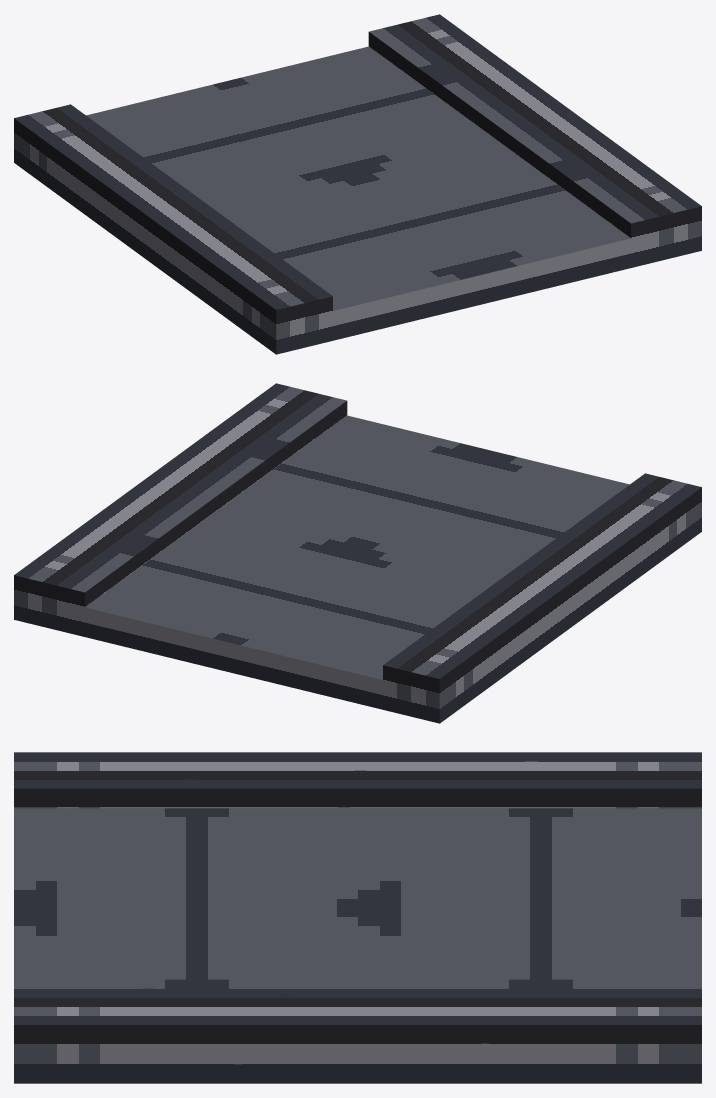
Rendered from conveyor_straight_forward.glb.
3 renders of one model, top to bottom at view 1: azimuth 30°, elevation 25°; view 2: azimuth 150°, elevation 25°; view 3: azimuth 270°, elevation 25°, orthographic. The views are drawn at different scales.
Parts seen in each view (by area): view 1: Replaceable_Belt, Chassis_and_Guide_Rails; view 2: Replaceable_Belt, Chassis_and_Guide_Rails; view 3: Replaceable_Belt, Chassis_and_Guide_Rails.
Boxes of the visible parts, left/top/right/bottom form: Replaceable_Belt: left=86, top=46, right=630, bottom=325; Chassis_and_Guide_Rails: left=14, top=14, right=701, bottom=354; Replaceable_Belt: left=85, top=415, right=629, bottom=694; Chassis_and_Guide_Rails: left=14, top=383, right=701, bottom=723; Replaceable_Belt: left=14, top=808, right=701, bottom=979; Chassis_and_Guide_Rails: left=14, top=752, right=701, bottom=1083.
Size of the model in its own units: 0.8438 by 0.0844 by 0.9.
Materials: 2 (2 with a texture image).
